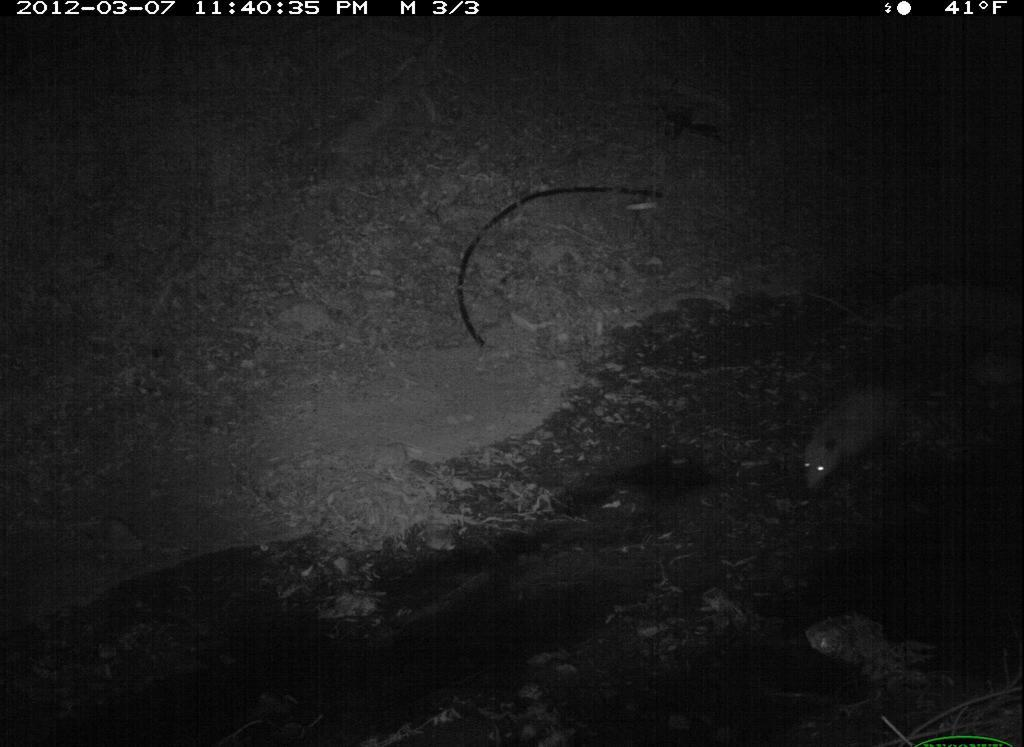opossum: (797, 373, 930, 498)
